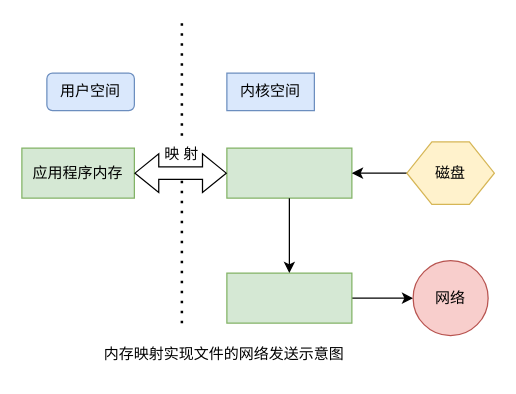
Some shapes in this 516 by 394 pixel diagram are drawn without their labels. The shapes that lost their labels are listed below. From the top down, each one's centre as x and y in pixels, then its label:
At pixel 289 172: "内核缓冲区 （Page Cache）".
At pixel 289 297: "Socket缓冲区".
